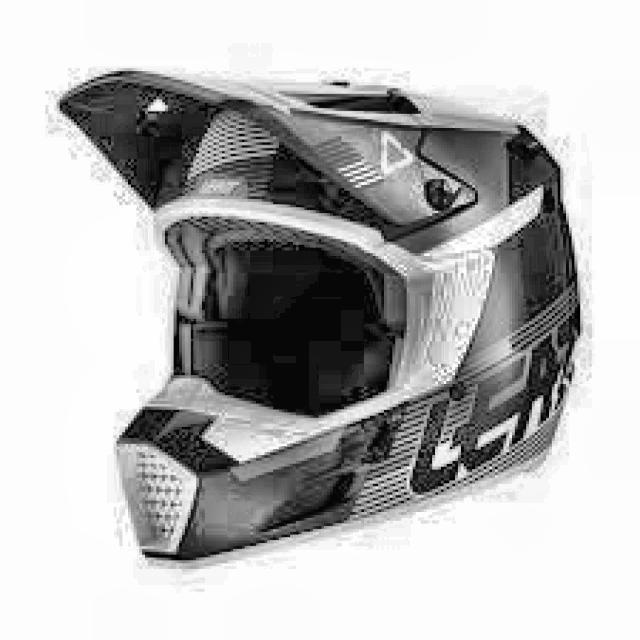Helmet: (44, 60, 595, 570)
